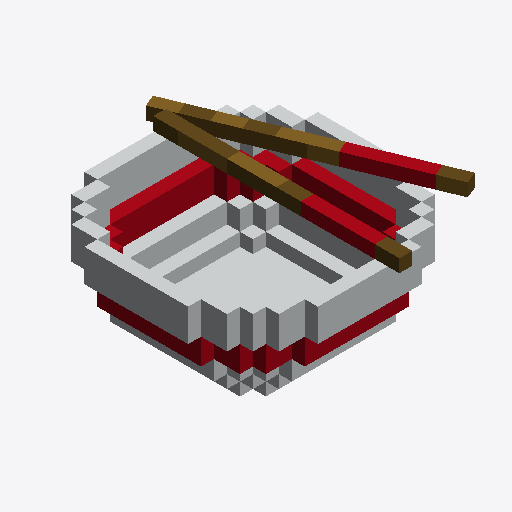
Isometric view (azimuth 45°, elevation 35.3°) of a Minecraft model made of 61 cuboids, textured from the same repository.
Parts seen in each view (by area): element 60, element 61, element 58, element 9, element 5, element 10, element 4, element 1, element 15, element 59, element 13, element 3 (+22 smaller).
Part boxes in pixels (x1,y1,x2,y2): element 60: (146,96,474,196); element 61: (153,109,411,272); element 58: (84,239,200,343); element 9: (305,239,421,343); element 5: (110,158,213,246); element 10: (84,132,198,208); element 4: (123,195,226,268); element 1: (189,255,316,305); element 15: (292,158,395,233); element 59: (305,112,421,208); element 13: (266,225,355,283); element 3: (150,225,239,283).
Bounding box in the file's own units: 9.5 × 4.5 × 10.18.